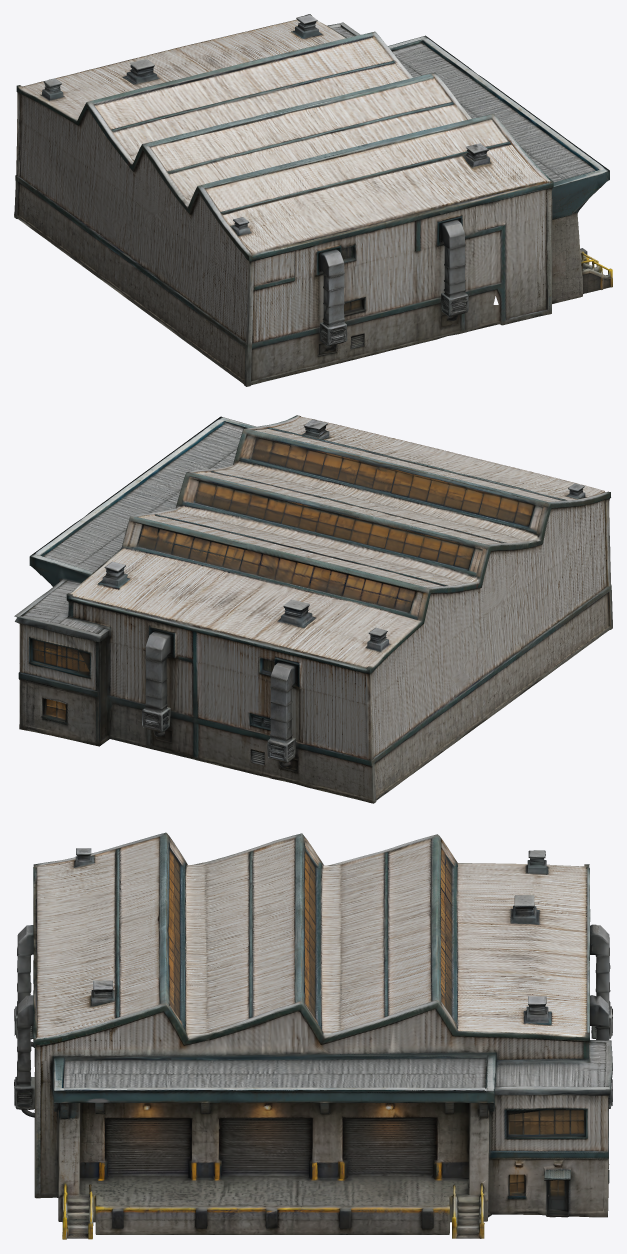
Rendered from kairox-loading-warehouse.glb.
3 views of the same model, one above another, from view 1: azimuth 30°, elevation 25°; view 2: azimuth 150°, elevation 25°; view 3: azimuth 270°, elevation 25° (orthographic). The views are drawn at different scales.
Visible parts, largest first — view 1: kairox-loading-warehouse; view 2: kairox-loading-warehouse; view 3: kairox-loading-warehouse.
Boxes of the visible parts, <box> form: kairox-loading-warehouse: <box>14,14,612,386</box>; kairox-loading-warehouse: <box>14,415,612,803</box>; kairox-loading-warehouse: <box>14,832,612,1239</box>.
Bounding box in the file's own units: 26.61 × 11 × 30.54.
Materials: 1 (1 with a texture image).
